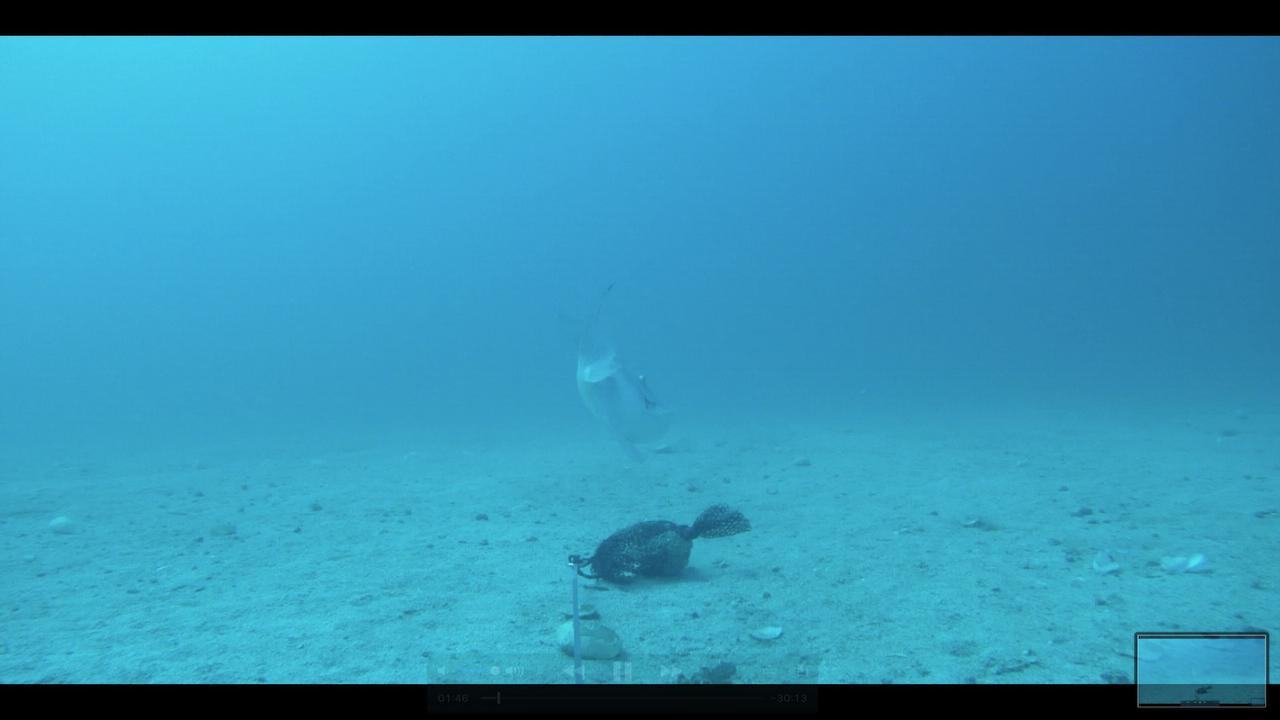balistes: (564, 275, 676, 467)
